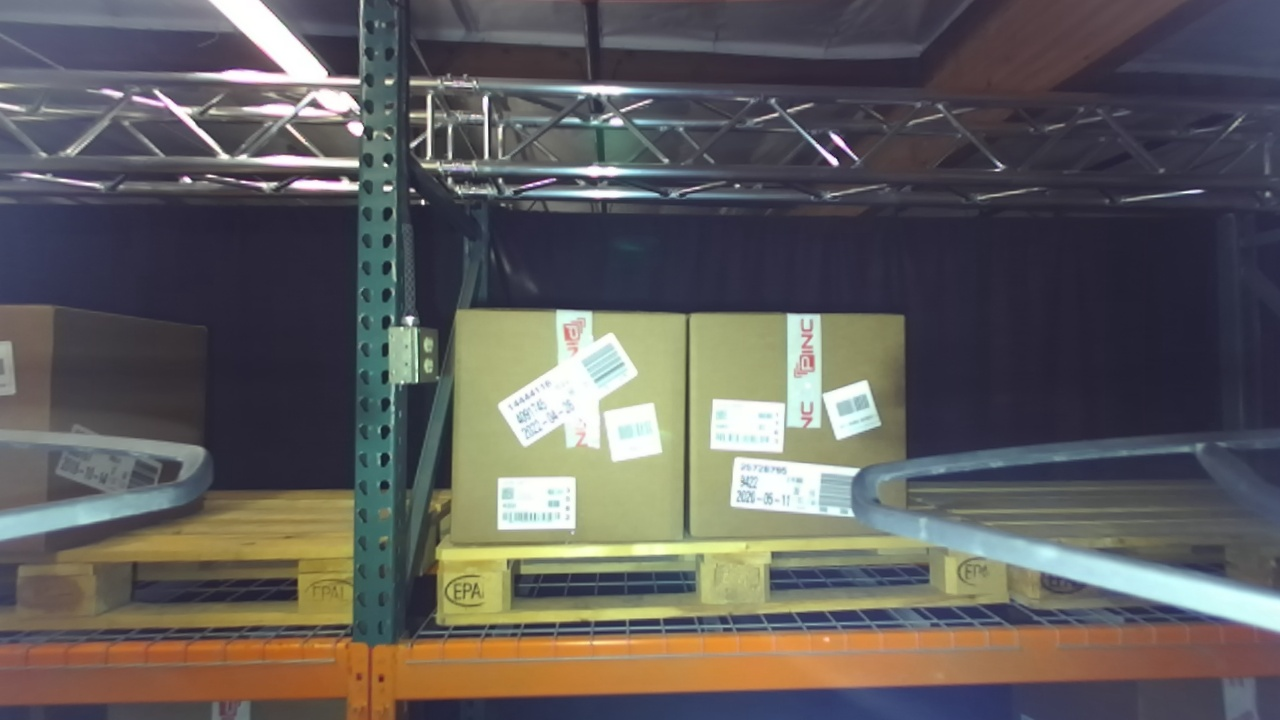box: (438, 288, 702, 578), (665, 286, 936, 565)
